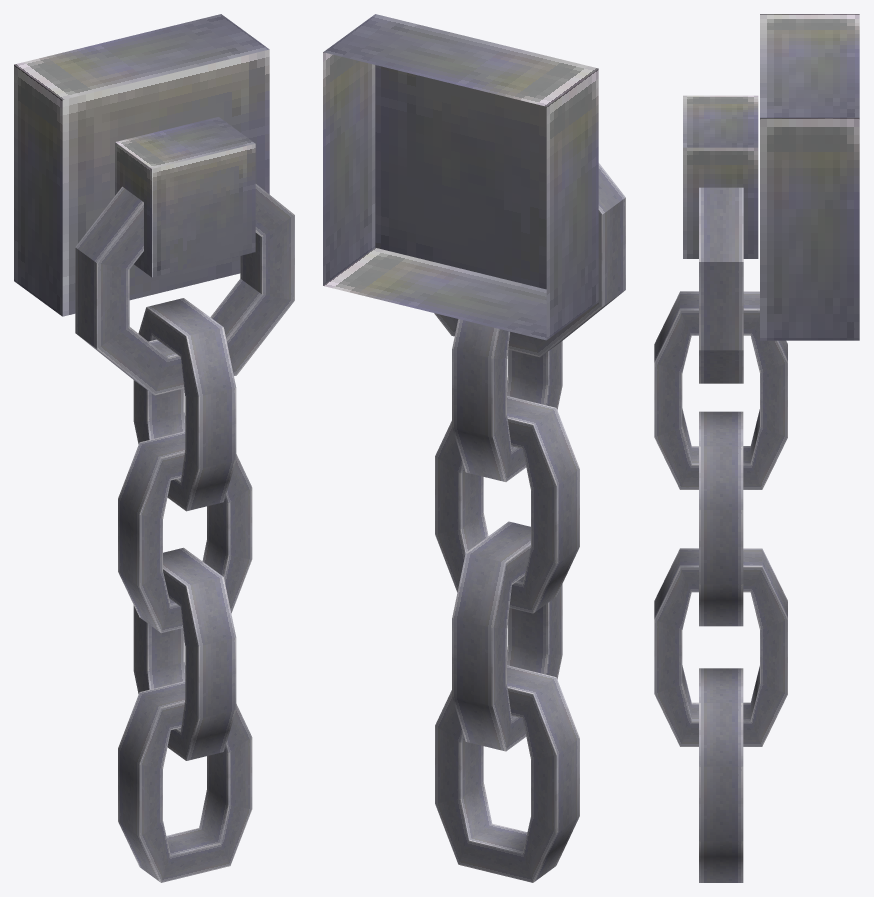
Rendered from WallRingChain.fbx.
3 views of the same model, side by side, from view 1: azimuth 30°, elevation 25°; view 2: azimuth 150°, elevation 25°; view 3: azimuth 270°, elevation 25° (orthographic). The views are drawn at different scales.
Visible parts, largest first — view 1: WallRingChain; view 2: WallRingChain; view 3: WallRingChain.
Part boxes in pixels (box(x1,y1,x2,y2)): WallRingChain: box(14, 14, 294, 882); WallRingChain: box(323, 14, 625, 882); WallRingChain: box(654, 14, 859, 882).
Size of the model in its own units: 0.1987 by 0.7133 by 0.1659.
